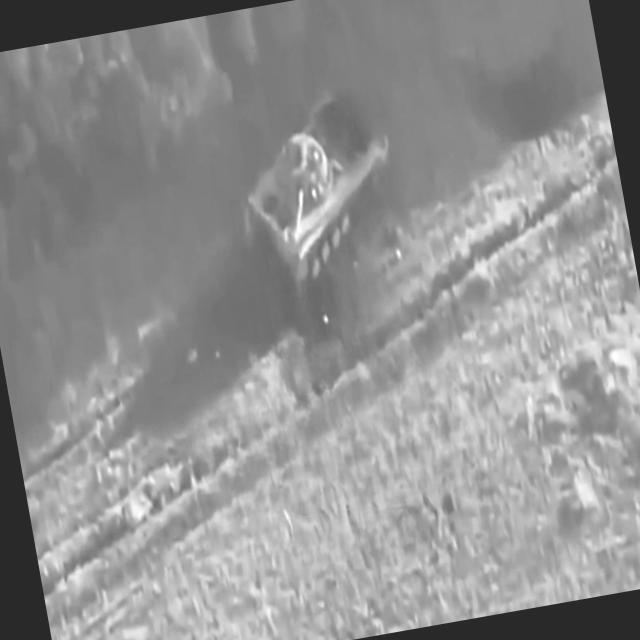AIFV: (225, 79, 415, 294)
